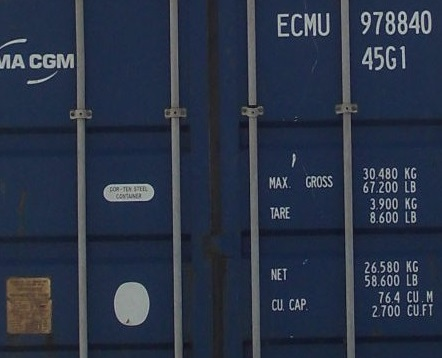container_door: (1, 3, 439, 353)
